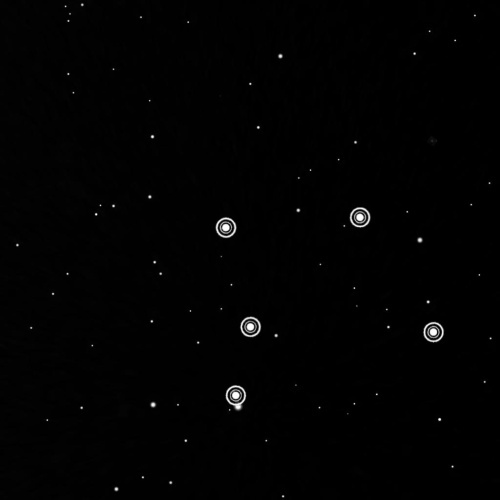libra: (208, 201, 451, 414)
